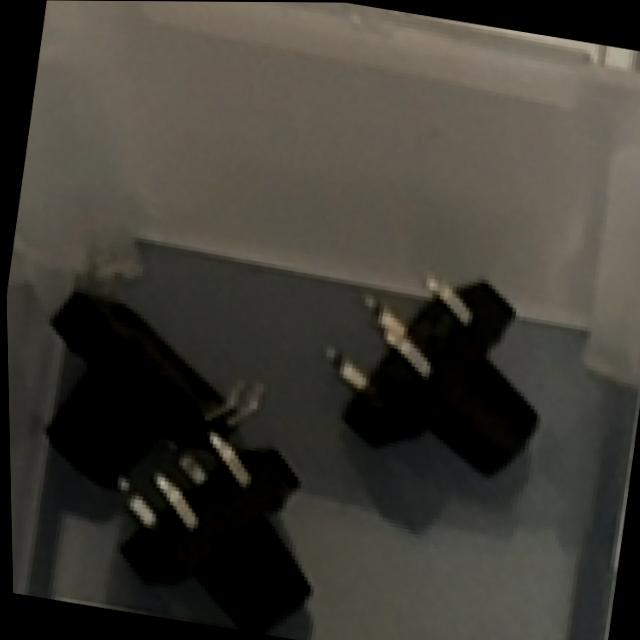Push Button: (13, 260, 278, 517), (310, 250, 563, 491), (96, 418, 340, 640)
